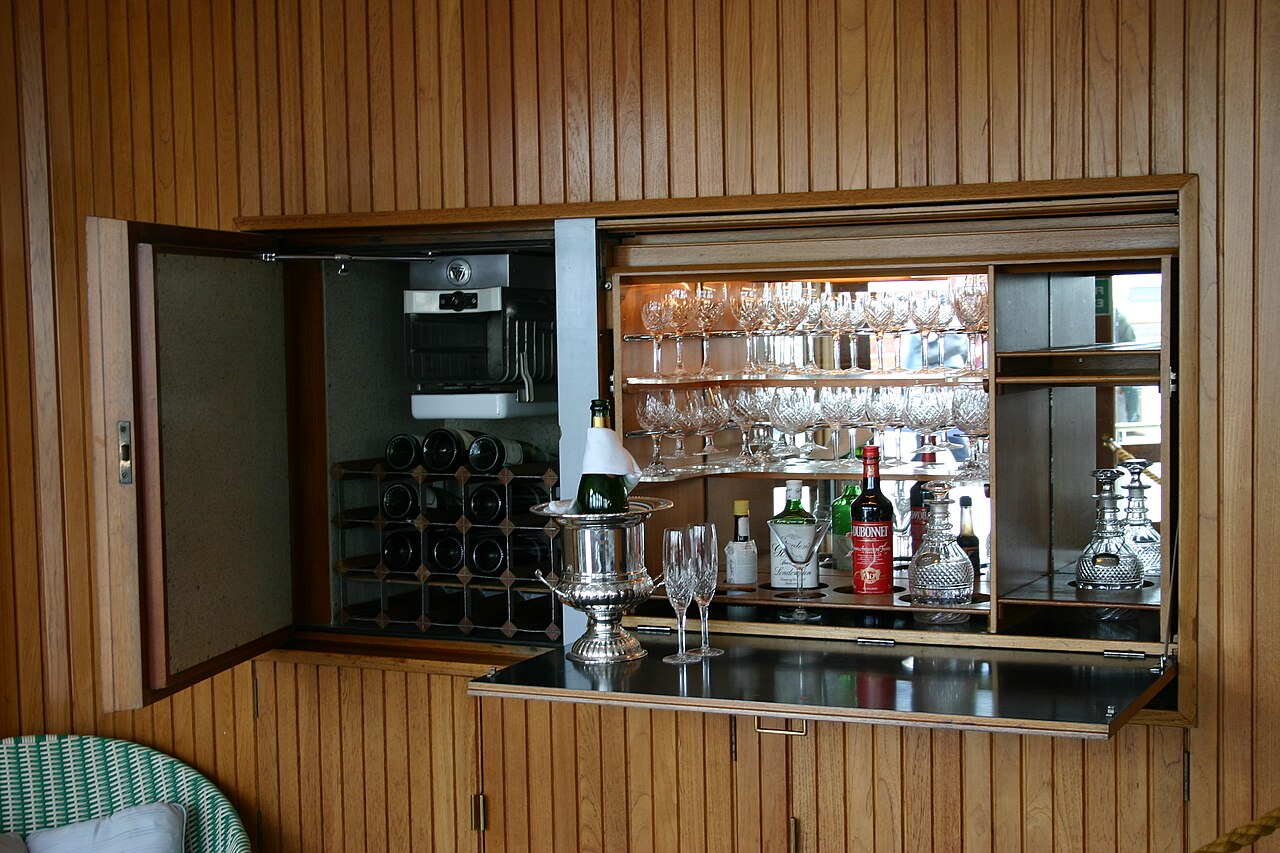orange: (725, 499, 758, 591)
unknown_bottle: (850, 445, 895, 594), (958, 496, 980, 600)
